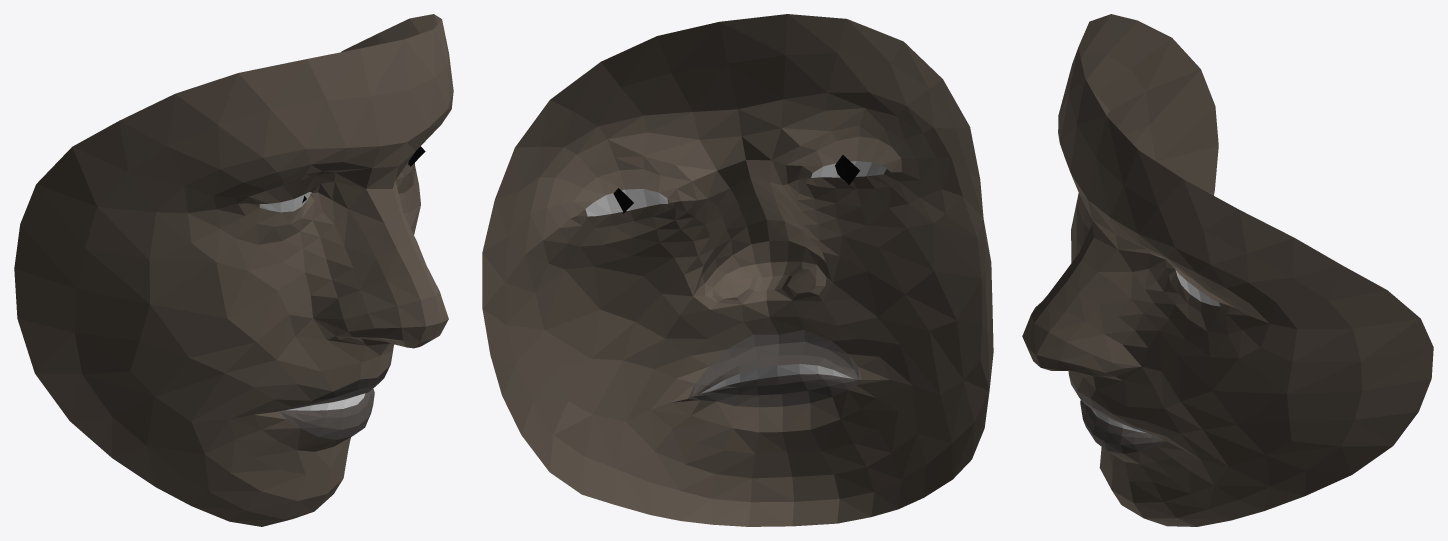
The model's file is frame_00123.obj.
3 views of the same model, side by side, from view 1: azimuth 30°, elevation 25°; view 2: azimuth 150°, elevation 25°; view 3: azimuth 270°, elevation 25° (orthographic). The views are drawn at different scales.
Parts seen in each view (by area): view 1: face_model_with_iris; view 2: face_model_with_iris; view 3: face_model_with_iris.
Boxes of the visible parts, <box> form: face_model_with_iris: <box>14,14,453,526</box>; face_model_with_iris: <box>482,14,993,526</box>; face_model_with_iris: <box>1022,14,1433,526</box>.
Size of the model in its own units: 0.5076 by 0.5458 by 0.4458.
